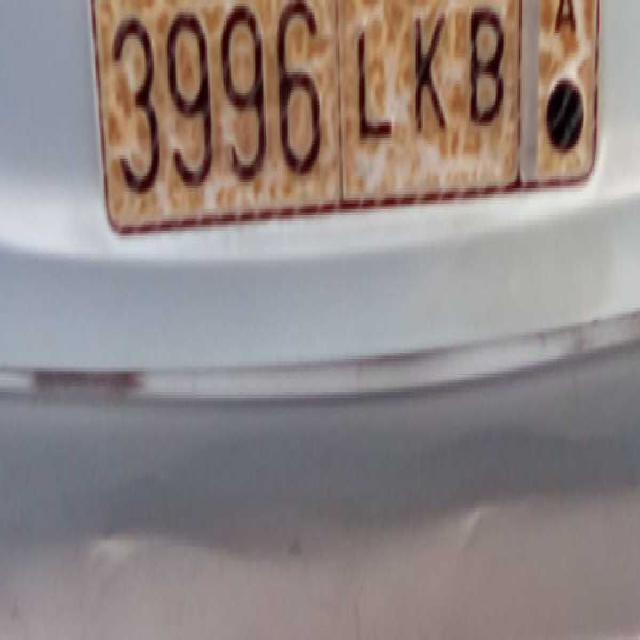license_plate: (102, 0, 518, 228)
